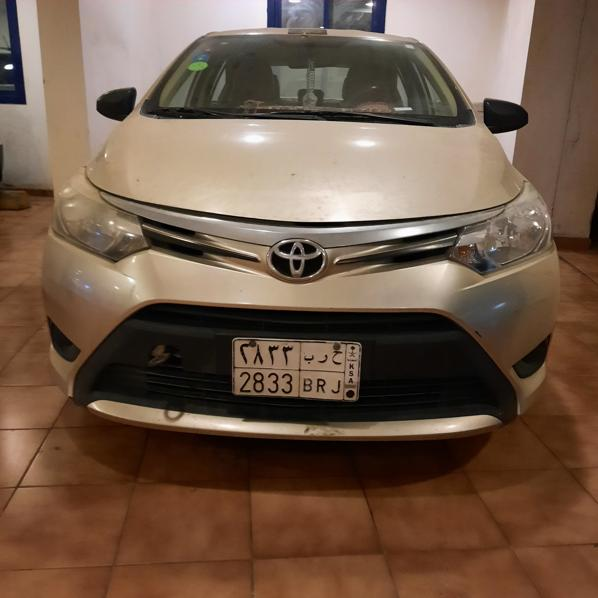numberplate: (233, 339, 360, 400)
